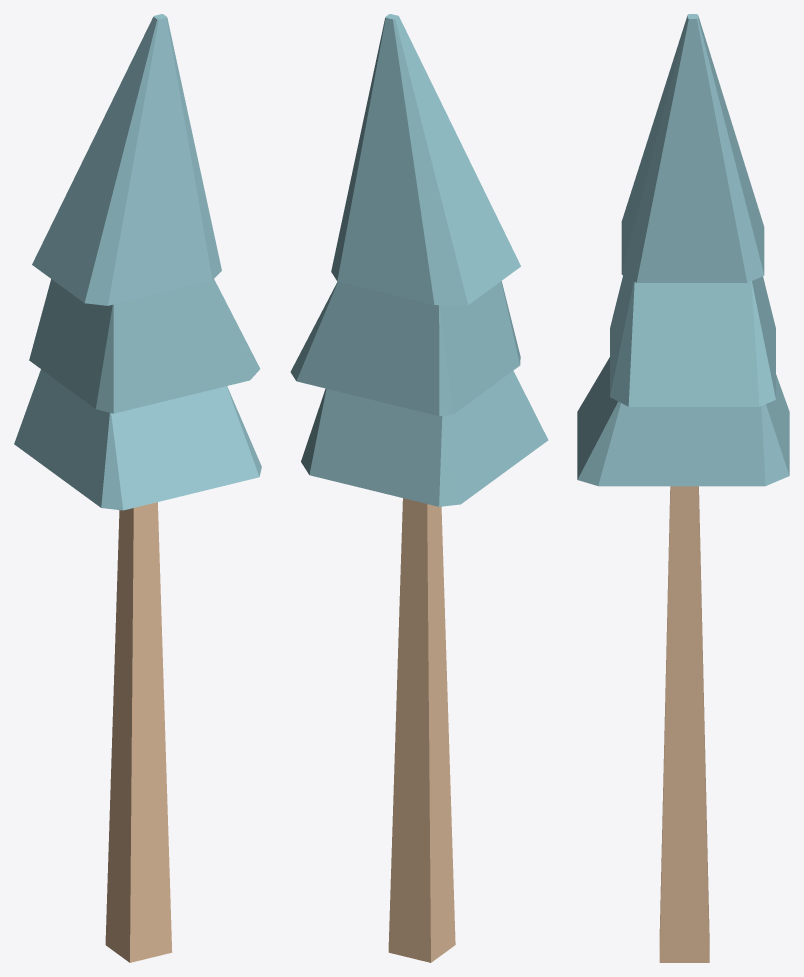
File: tree_pine_tallSquare.glb
The picture shows the model from 3 angles, left to right: view 1: azimuth 30°, elevation 25°; view 2: azimuth 150°, elevation 25°; view 3: azimuth 270°, elevation 25°; orthographic projection. The views are drawn at different scales.
Visible parts, largest first — view 1: tree_pine_tallSquare; view 2: tree_pine_tallSquare; view 3: tree_pine_tallSquare.
Part boxes in pixels (x1,y1,x2,y2): tree_pine_tallSquare: (14, 14, 261, 962); tree_pine_tallSquare: (290, 14, 548, 962); tree_pine_tallSquare: (577, 14, 789, 962).
Size of the model in its own units: 0.3863 by 1.93 by 0.392.
